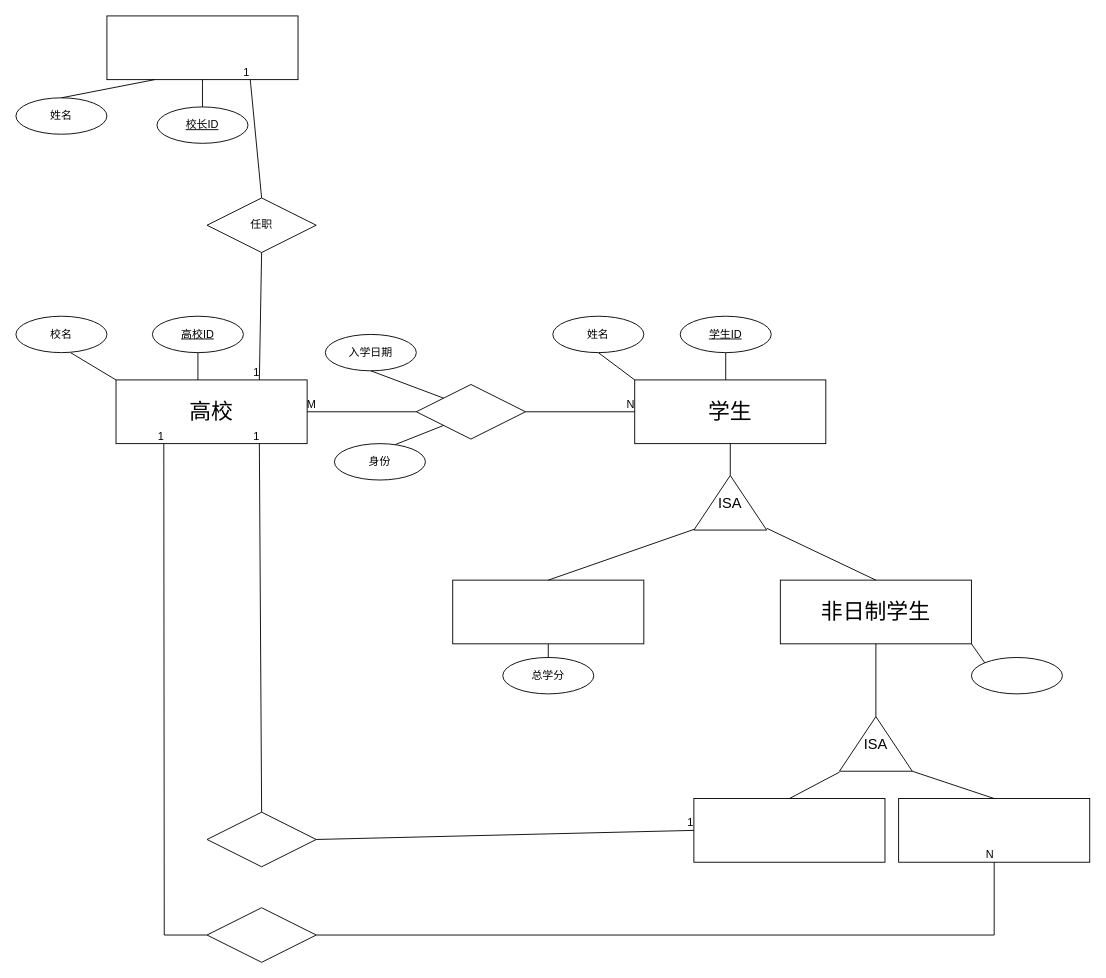
This 1106x978 diagram has some shape labels left out. Each missing label, with the box of its shape:
全日制学生: (452, 579, 644, 644)
学生会主席: (693, 798, 885, 862)
学生会副主席: (898, 798, 1090, 862)
就读: (415, 384, 526, 439)
担任学生会主席: (206, 811, 316, 867)
担任学生会副主席: (206, 907, 316, 962)
校长: (106, 15, 298, 80)
每周最少学时: (971, 657, 1062, 694)
